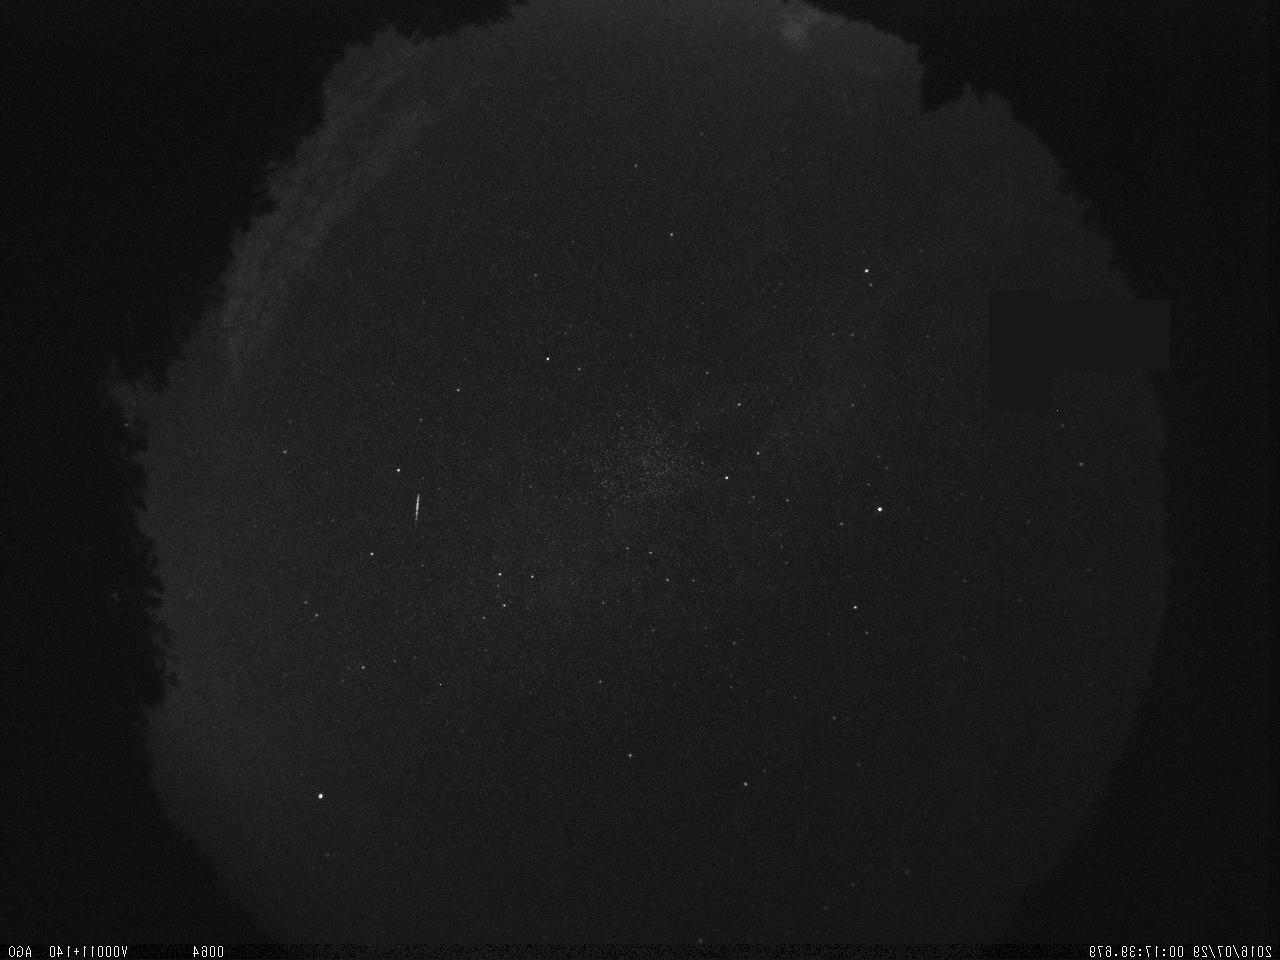meteor: (394, 483, 439, 542)
